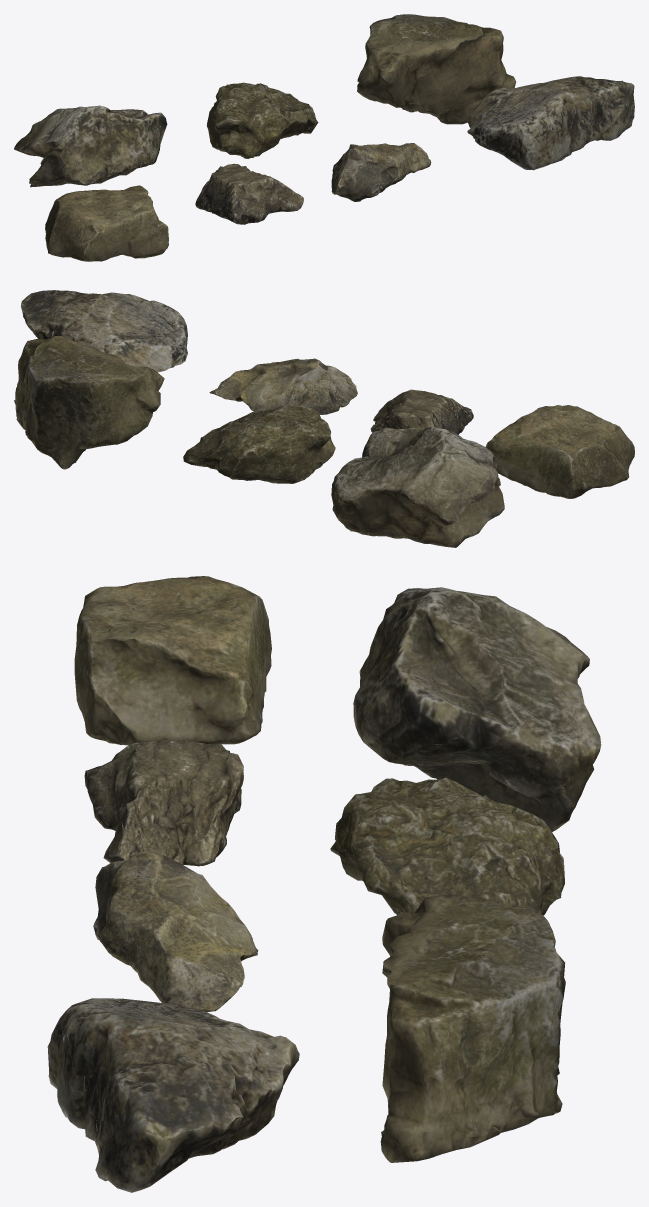
The model's file is rock_moss_set_02.glb.
3 renders of one model, top to bottom at view 1: azimuth 30°, elevation 25°; view 2: azimuth 150°, elevation 25°; view 3: azimuth 270°, elevation 25°, orthographic. The views are drawn at different scales.
Visible parts, largest first — view 1: rock_moss_set_02_rock13, rock_moss_set_02_rock10, rock_moss_set_02_rock11, rock_moss_set_02_rock07, rock_moss_set_02_rock12, rock_moss_set_02_rock08, rock_moss_set_02_rock09; view 2: rock_moss_set_02_rock11, rock_moss_set_02_rock13, rock_moss_set_02_rock07, rock_moss_set_02_rock10, rock_moss_set_02_rock12, rock_moss_set_02_rock09, rock_moss_set_02_rock08; view 3: rock_moss_set_02_rock13, rock_moss_set_02_rock11, rock_moss_set_02_rock10, rock_moss_set_02_rock07, rock_moss_set_02_rock12, rock_moss_set_02_rock09, rock_moss_set_02_rock08.
Part boxes in pixels (box(x1,y1,x2,y2)): rock_moss_set_02_rock13: box(357, 14, 515, 124); rock_moss_set_02_rock10: box(467, 76, 634, 170); rock_moss_set_02_rock11: box(14, 105, 167, 187); rock_moss_set_02_rock07: box(45, 185, 168, 261); rock_moss_set_02_rock12: box(206, 82, 318, 158); rock_moss_set_02_rock08: box(195, 163, 303, 224); rock_moss_set_02_rock09: box(331, 143, 431, 201); rock_moss_set_02_rock11: box(331, 426, 504, 547); rock_moss_set_02_rock13: box(14, 336, 164, 469); rock_moss_set_02_rock07: box(485, 405, 634, 498); rock_moss_set_02_rock10: box(21, 290, 187, 372); rock_moss_set_02_rock12: box(183, 405, 335, 483); rock_moss_set_02_rock09: box(209, 358, 357, 414); rock_moss_set_02_rock08: box(370, 389, 473, 434); rock_moss_set_02_rock13: box(380, 894, 565, 1162); rock_moss_set_02_rock11: box(353, 587, 601, 831); rock_moss_set_02_rock10: box(47, 998, 299, 1192); rock_moss_set_02_rock07: box(74, 576, 271, 745); rock_moss_set_02_rock12: box(330, 777, 564, 915); rock_moss_set_02_rock09: box(93, 850, 258, 1012); rock_moss_set_02_rock08: box(84, 740, 243, 866).
Size of the model in its own units: 8.28 by 1.36 by 3.41.
1 material, 1 textured.
